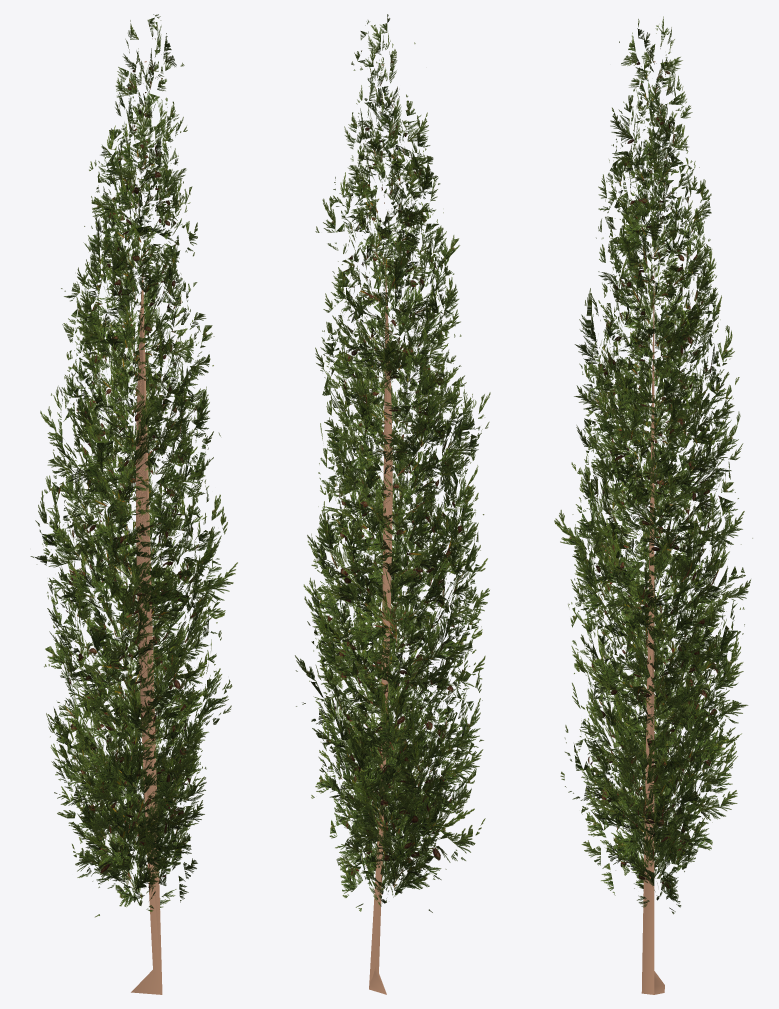
File: cypr_feuillage_l1.glb
3 renders of one model, left to right at view 1: azimuth 30°, elevation 25°; view 2: azimuth 150°, elevation 25°; view 3: azimuth 270°, elevation 25°, orthographic.
Visible parts, largest first — view 1: Sans_titre; view 2: Sans_titre; view 3: Sans_titre.
Part boxes in pixels (<box>): Sans_titre: <box>30,14,237,994</box>; Sans_titre: <box>295,14,490,994</box>; Sans_titre: <box>554,16,752,994</box>.
Bounding box in the file's own units: 15.68 × 73.34 × 15.33.
3 materials, 2 textured.
